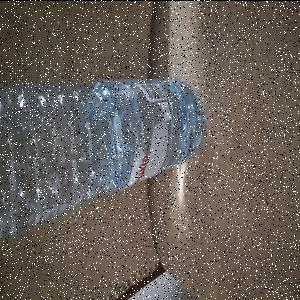Plastic-bottle: (1, 76, 207, 245)
